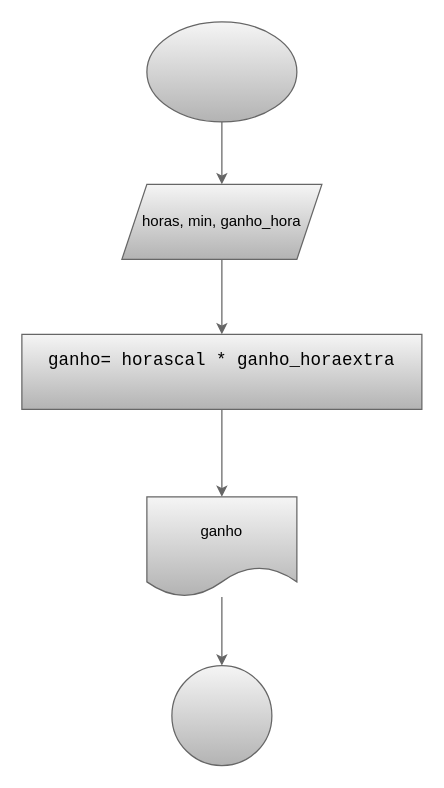
This 444x788 diagram has some shape labels left out. Each missing label, with the centre of its shape:
fim: point 221,715
início: point 221,71
